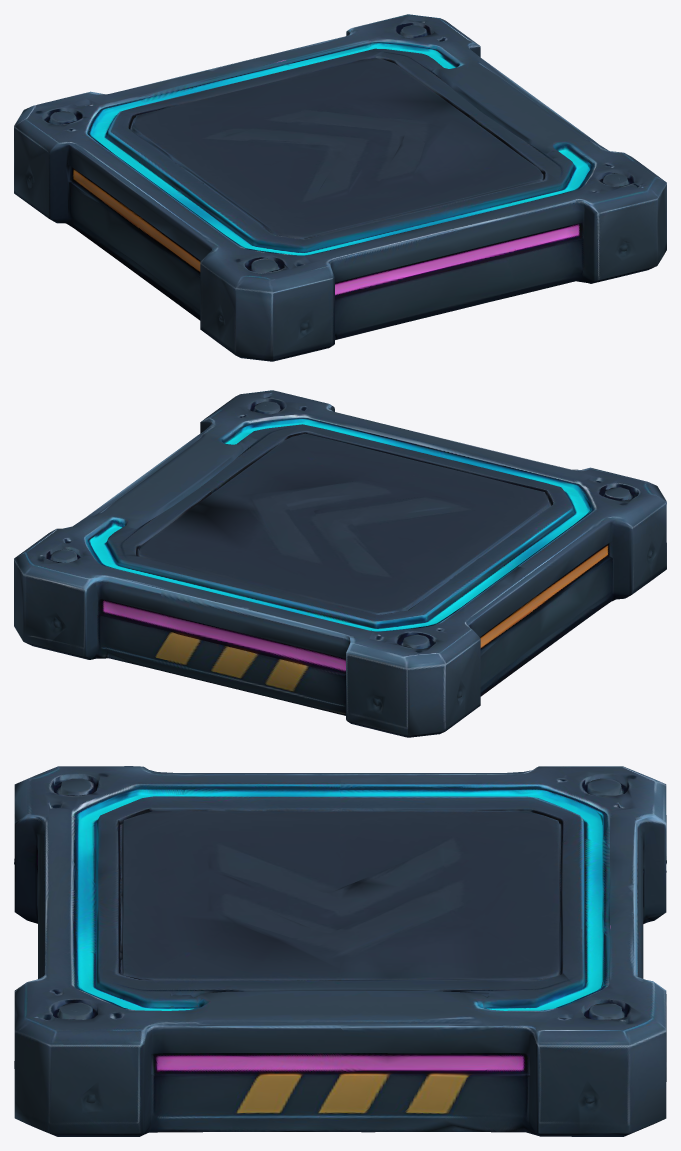
File: Platform.fbx
The picture shows the model from 3 angles, top to bottom: view 1: azimuth 30°, elevation 25°; view 2: azimuth 150°, elevation 25°; view 3: azimuth 270°, elevation 25°; orthographic projection. The views are drawn at different scales.
Visible parts, largest first — view 1: tripo_node_0e56bf07; view 2: tripo_node_0e56bf07; view 3: tripo_node_0e56bf07.
Part boxes in pixels (left/top/right/bottom): tripo_node_0e56bf07: left=14, top=14, right=666, bottom=361; tripo_node_0e56bf07: left=14, top=390, right=666, bottom=737; tripo_node_0e56bf07: left=14, top=766, right=666, bottom=1136.
Bounding box in the file's own units: 0.9998 × 0.1837 × 1.
1 material, 1 textured.
